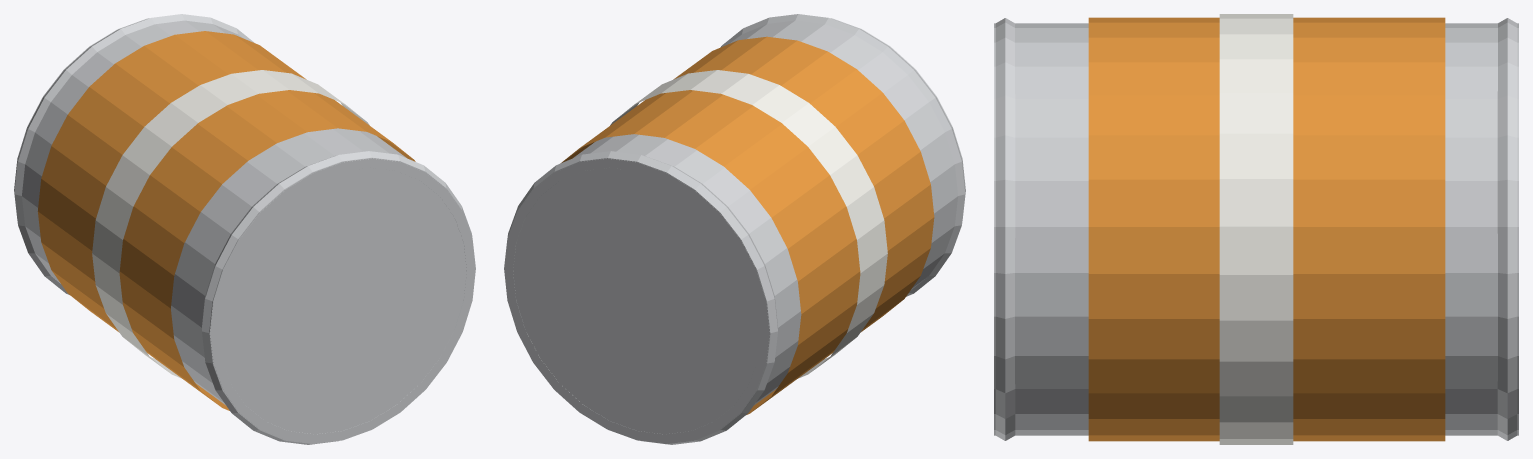
Rendered from can_4.obj.
3 views of the same model, side by side, from view 1: azimuth 30°, elevation 25°; view 2: azimuth 150°, elevation 25°; view 3: azimuth 270°, elevation 25° (orthographic). The views are drawn at different scales.
Bounding box in the file's own units: 0.115 × 0.115 × 0.1401.
